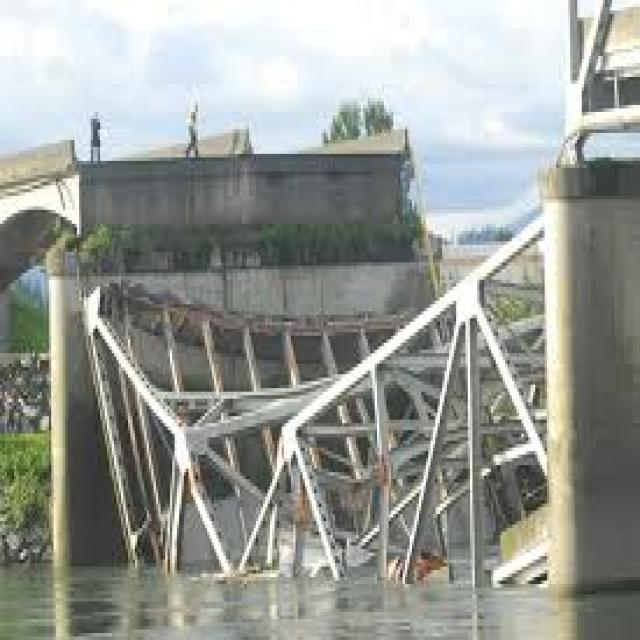bridge collapse: (16, 83, 640, 591)
